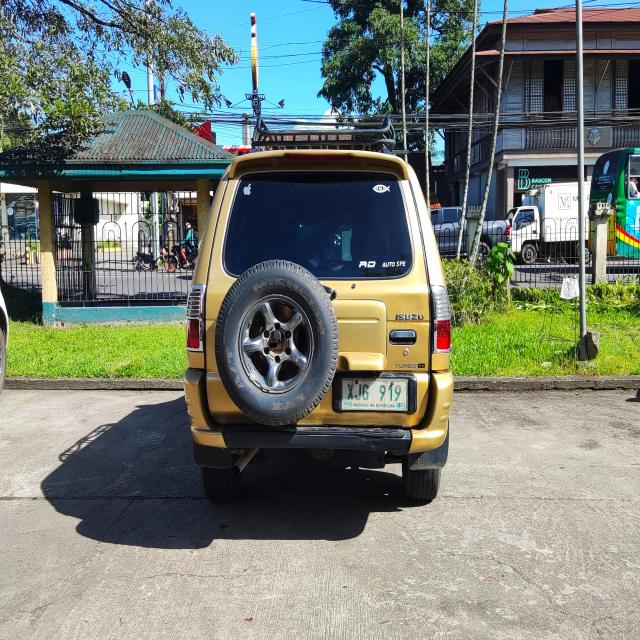plate: (340, 377, 410, 413)
